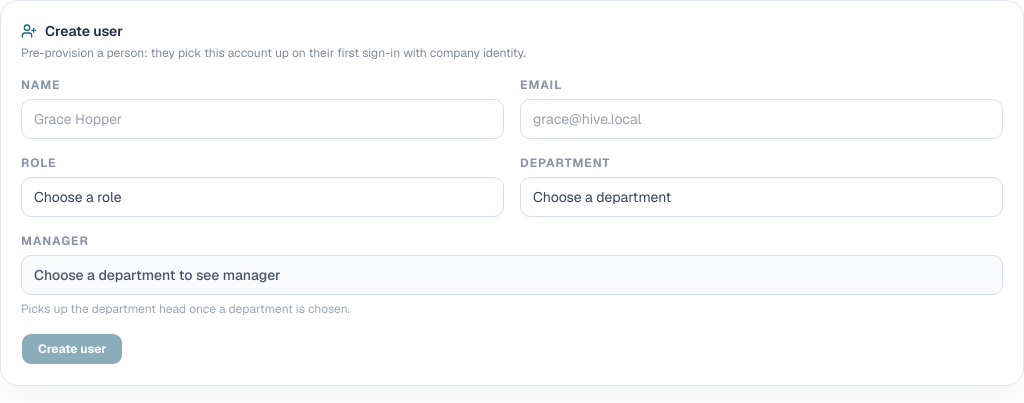
Test case: UserCreateForm › auto-fills the manager from the department head when a department is picked
In the field labelled "Name": point(262, 119) [21, 99, 504, 139], type "Katherine Johnson"
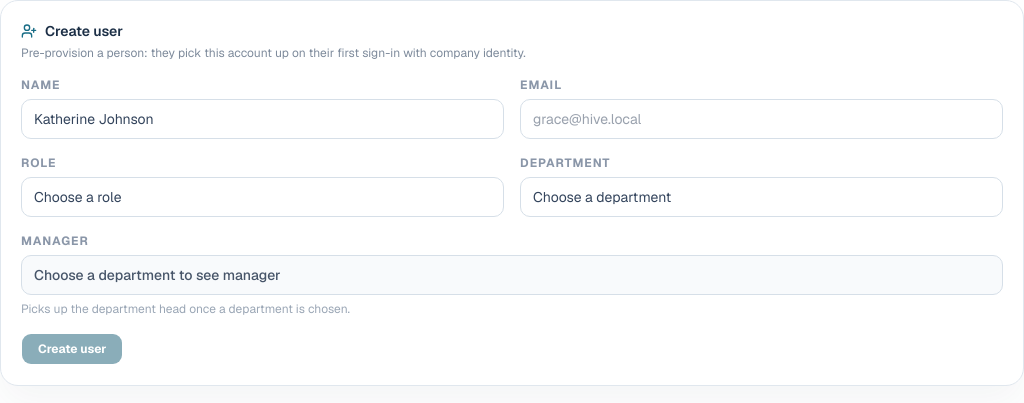
In the field labelled "Email": point(762, 119) [520, 99, 1003, 139], type "katherine@hive.local"
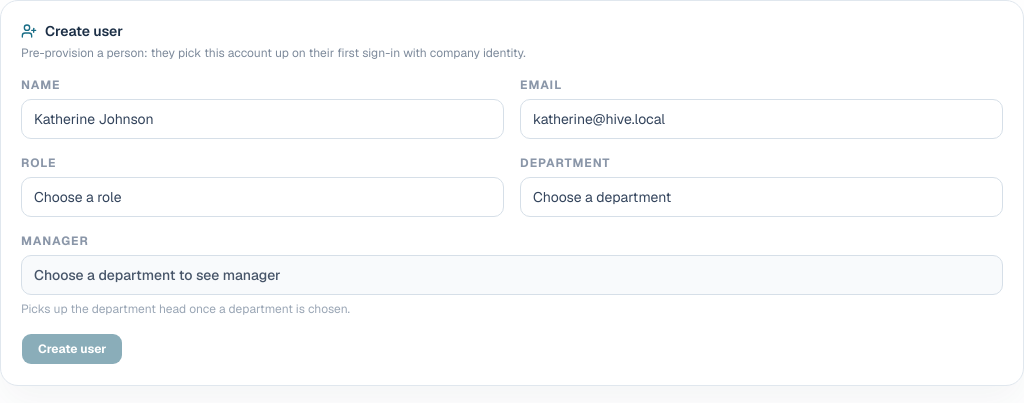
Select "Executive" in the dropdown labelled "Role": point(262, 197) [21, 177, 504, 217]
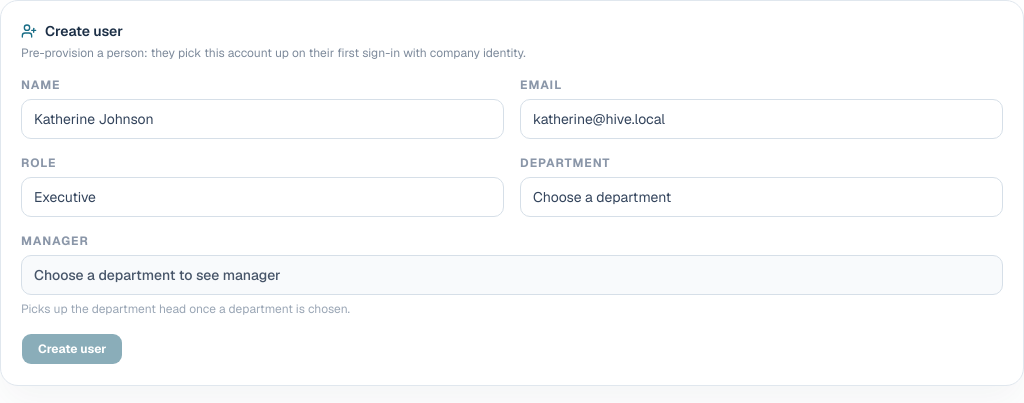
Select "Engineering" in the dropdown labelled "Department": point(762, 197) [520, 177, 1003, 217]
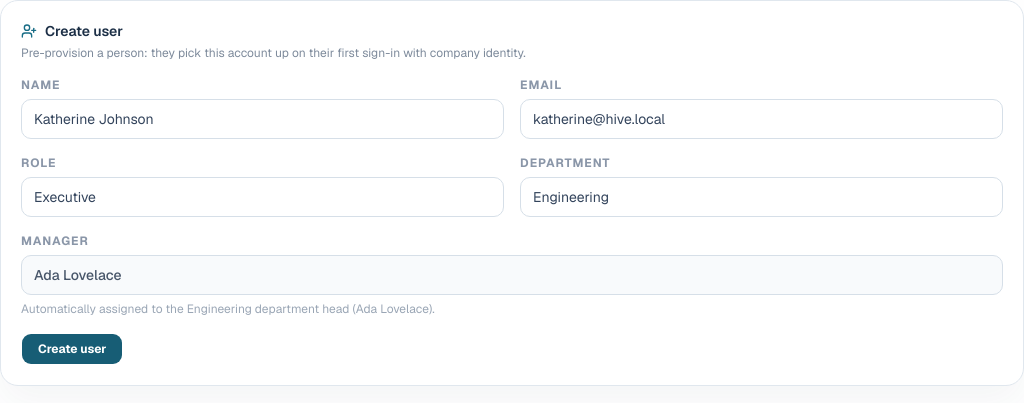
Result: the field labelled "Manager" holds "Ada Lovelace" at [21, 255, 1003, 295]
Result: the text "Automatically assigned to the Engineering department head (Ada Lovelace)" is shown at [21, 301, 435, 317]
